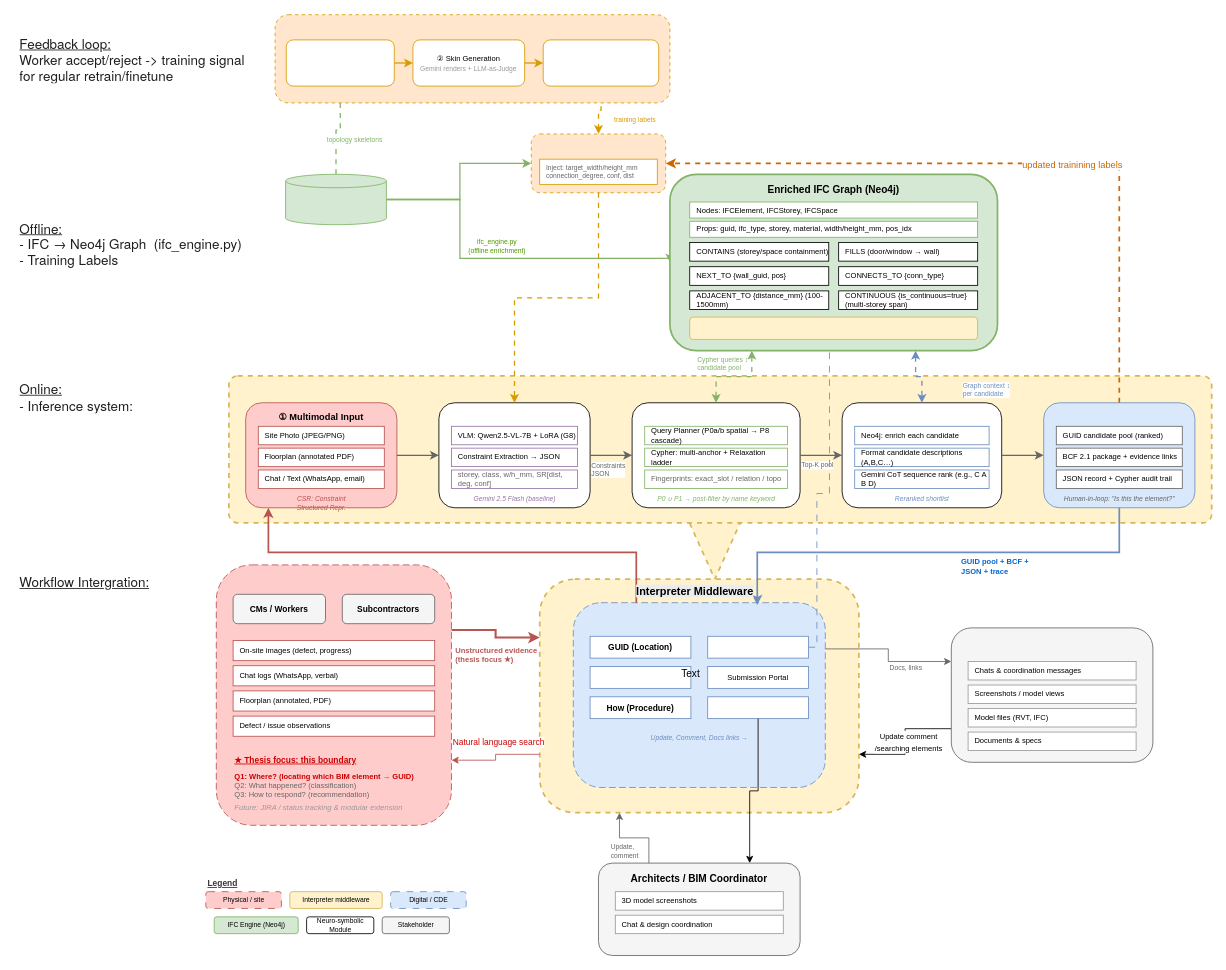
Image size: 1226x970. Some labels were removed from this diagram. The box of each missing label's shape, as (x1, y1, x2, y2) in pixels:
Digital: CDE / BIM Cloud: (572, 602, 825, 788)
IFC Repository: (707, 635, 808, 658)
Issue Tracker (BCF): (707, 696, 808, 719)
Neuro-Symbolic Interpreter Middleware: (228, 375, 1212, 523)
Office: Developer / Consultant: (950, 627, 1153, 762)
Offline: Training Data Pipeline: (274, 14, 670, 103)
Offline: Training Labels: (530, 133, 666, 193)
Physical: On-Site: (215, 564, 452, 825)
project raw IFC File (ifcopenshell): (285, 173, 386, 225)
Status (CUD Timeline): (589, 666, 691, 688)
wall_region_index sidecar (2,277 regions, 100% unique fingerprints): (689, 316, 978, 339)
① IFC Topology Skeleton Mining hunt_skeletons.py: (285, 39, 394, 86)
② Neural Layer: (438, 402, 590, 508)
③ Symbolic Layer: (631, 402, 800, 508)
③ Tier 1/2/3 Label Records ~200 spatial + ~900 attr-only + new topology: (542, 39, 659, 86)
④ Graph-RAG Rerank: (841, 402, 1002, 508)
⑤ GUID Output: (1043, 402, 1195, 508)
